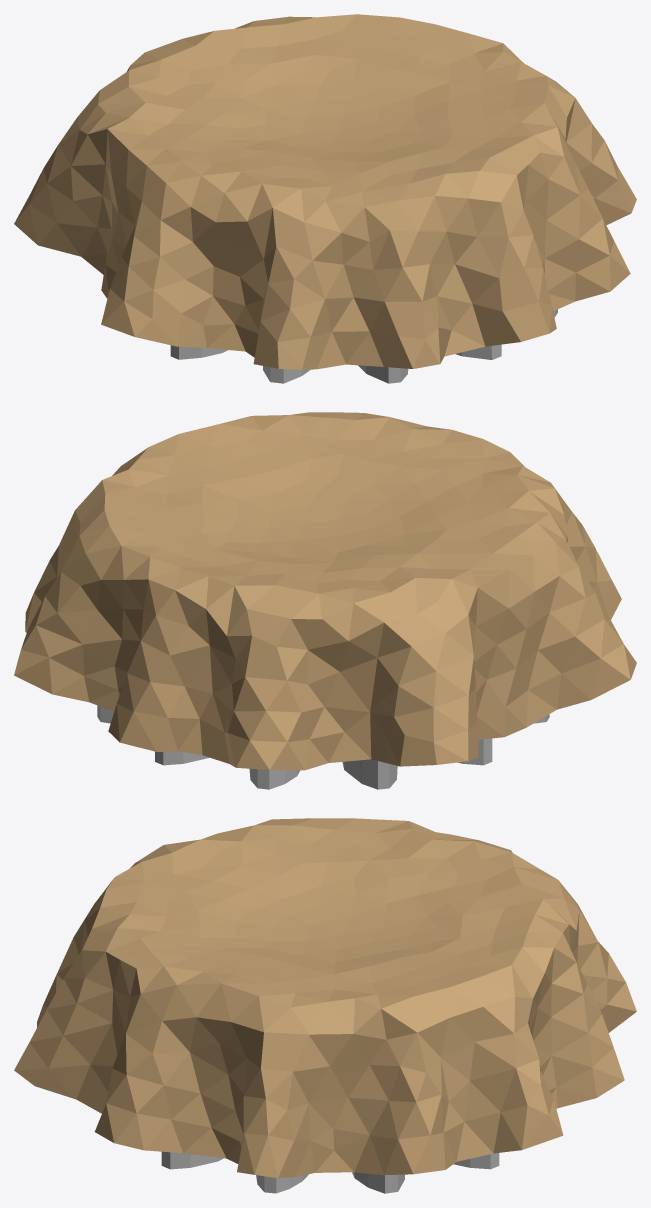
File: level_0.glb
3 views of the same model, one above another, from view 1: azimuth 30°, elevation 25°; view 2: azimuth 150°, elevation 25°; view 3: azimuth 270°, elevation 25° (orthographic).
Visible parts, largest first — view 1: world, object.obj; view 2: world, object.obj; view 3: world, object.obj.
Boxes of the visible parts, x1,y1,x2,y2 form: world: (14,14,636,369); object.obj: (170,309,557,383); world: (14,412,636,770); object.obj: (97,705,549,789); world: (14,818,636,1178); object.obj: (161,1151,499,1193).
Size of the model in its own units: 0.4832 by 0.1634 by 0.4807.
